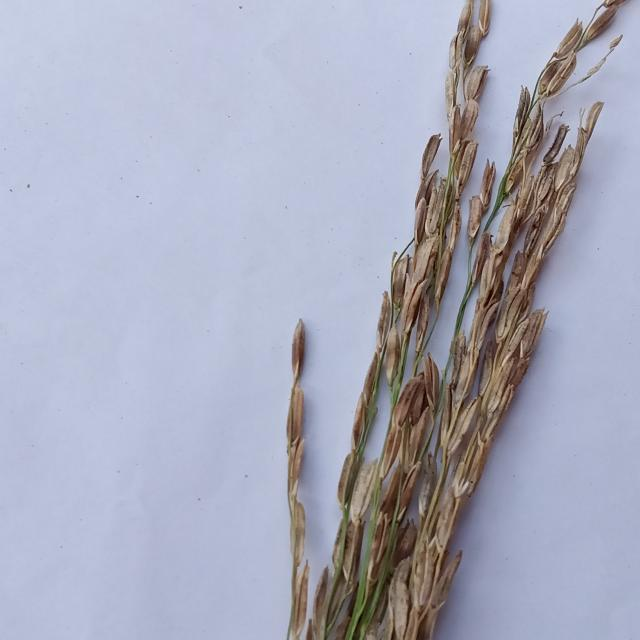Neck_Blast: (285, 0, 640, 640)
